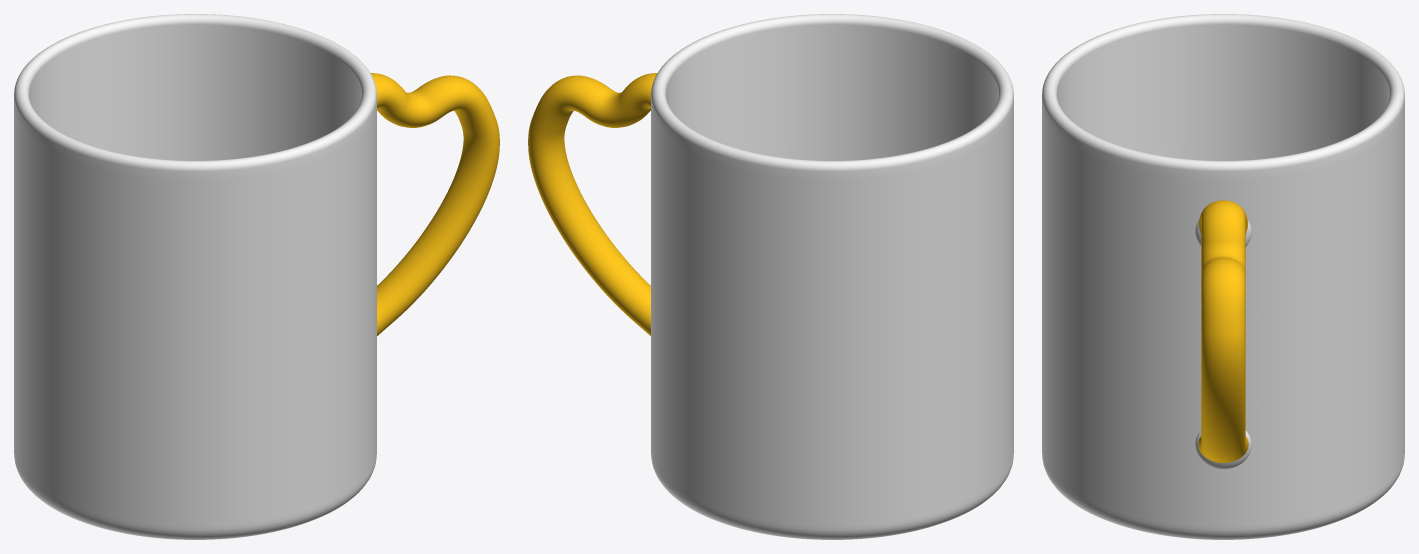
File: heart-mug.glb
3 views of the same model, side by side, from view 1: azimuth 30°, elevation 25°; view 2: azimuth 150°, elevation 25°; view 3: azimuth 270°, elevation 25° (orthographic).
Visible parts, largest first — view 1: Mug_Print_Surface, Mug_Ceramic, Heart_Handle; view 2: Mug_Print_Surface, Mug_Ceramic, Heart_Handle; view 3: Mug_Print_Surface, Mug_Ceramic, Heart_Handle, Lower_Attachment.
Boxes of the visible parts, <box> form: Mug_Print_Surface: <box>14,106,376,525</box>; Mug_Ceramic: <box>14,14,376,539</box>; Heart_Handle: <box>370,73,499,335</box>; Mug_Print_Surface: <box>651,106,1013,525</box>; Mug_Ceramic: <box>651,14,1013,539</box>; Heart_Handle: <box>528,73,657,335</box>; Mug_Print_Surface: <box>1042,106,1404,525</box>; Mug_Ceramic: <box>1042,14,1404,539</box>; Heart_Handle: <box>1198,200,1248,462</box>; Lower_Attachment: <box>1195,430,1251,469</box>.
Bounding box in the file's own units: 0.1195 × 0.095 × 0.082.
